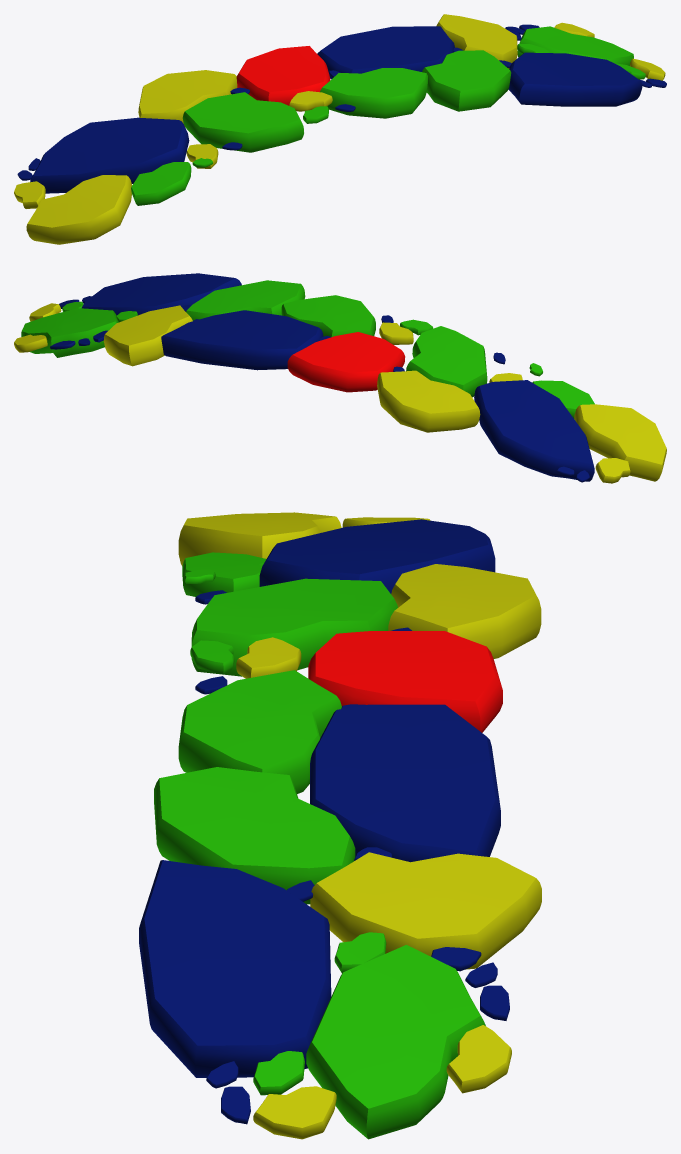
File: Lava_Bridge.FBX
3 views of the same model, one above another, from view 1: azimuth 30°, elevation 25°; view 2: azimuth 150°, elevation 25°; view 3: azimuth 270°, elevation 25° (orthographic). The views are drawn at different scales.
Parts seen in each view (by area): view 1: Rock1_1, Rock1_11, Rock3_2, Rock4_2, Rock1_8, Rock3_5, Rock3_6, Rock2, Rock4_1, Rock4_6, Rock3_7, Rock3_1 (+5 smaller); view 2: Rock1_1, Rock1_8, Rock2, Rock4_1, Rock4_2, Rock1_11, Rock3_2, Rock4_6, Rock3_7, Rock3_6, Rock3_5, Rock3_1 (+5 smaller); view 3: Rock1_11, Rock1_8, Rock3_7, Rock4_6, Rock3_6, Rock2, Rock3_5, Rock3_2, Rock1_1, Rock4_1, Rock4_2, Rock4_8 (+8 smaller).
Boxes of the visible parts, x1,y1,x2,y2 form: Rock1_1: (30, 117, 189, 193); Rock1_11: (508, 52, 642, 106); Rock3_2: (182, 92, 303, 152); Rock4_2: (26, 175, 131, 244); Rock1_8: (317, 26, 454, 79); Rock3_5: (320, 68, 427, 118); Rock3_6: (422, 50, 511, 111); Rock2: (236, 46, 330, 105); Rock4_1: (138, 70, 237, 126); Rock4_6: (436, 14, 517, 68); Rock3_7: (517, 26, 633, 65); Rock3_1: (131, 162, 191, 205); Rock1_1: (474, 380, 594, 481); Rock1_8: (161, 310, 323, 370); Rock2: (287, 332, 405, 392); Rock4_1: (377, 370, 480, 432); Rock4_2: (574, 404, 666, 481); Rock1_11: (82, 273, 241, 315); Rock3_2: (406, 326, 487, 397); Rock4_6: (103, 305, 192, 366); Rock3_7: (21, 308, 118, 357); Rock3_6: (186, 280, 305, 320); Rock3_5: (281, 295, 375, 336); Rock3_1: (532, 380, 594, 418); Rock1_11: (139, 860, 331, 1077); Rock1_8: (310, 704, 500, 862); Rock3_7: (306, 945, 485, 1139); Rock4_6: (310, 852, 541, 969); Rock3_6: (154, 767, 355, 904); Rock2: (308, 631, 502, 732); Rock3_5: (178, 670, 341, 793); Rock3_2: (191, 578, 397, 676); Rock1_1: (259, 519, 495, 593); Rock4_1: (388, 564, 541, 658); Rock4_2: (178, 512, 341, 565); Rock4_8: (253, 1086, 336, 1139).
Size of the model in its own units: 26.86 by 3.37 by 7.44.
